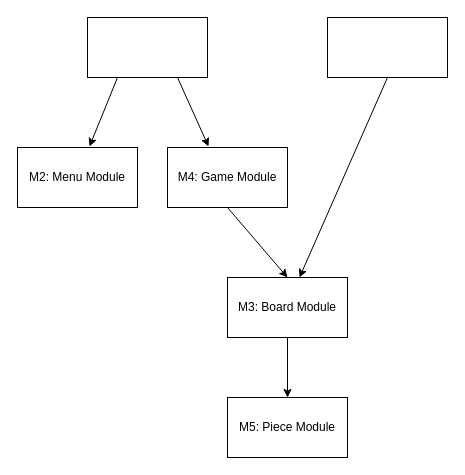
The diagram is 465 pixels wide and 475 high, and some of its shapes have lost their labels. Each missing label, with the centre of its shape:
"M1: GUI Module" belongs at point 147,47.
"M6: AI Module" belongs at point 387,47.
